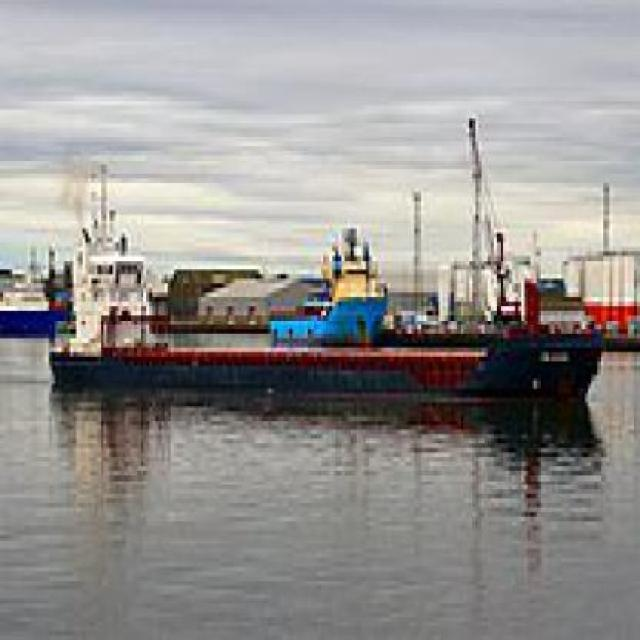container: (56, 139, 604, 422)
